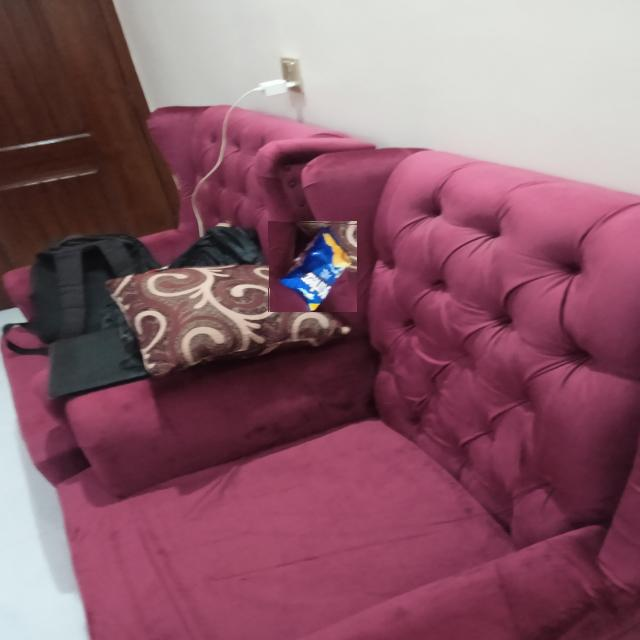Plastic: (267, 220, 357, 312)
